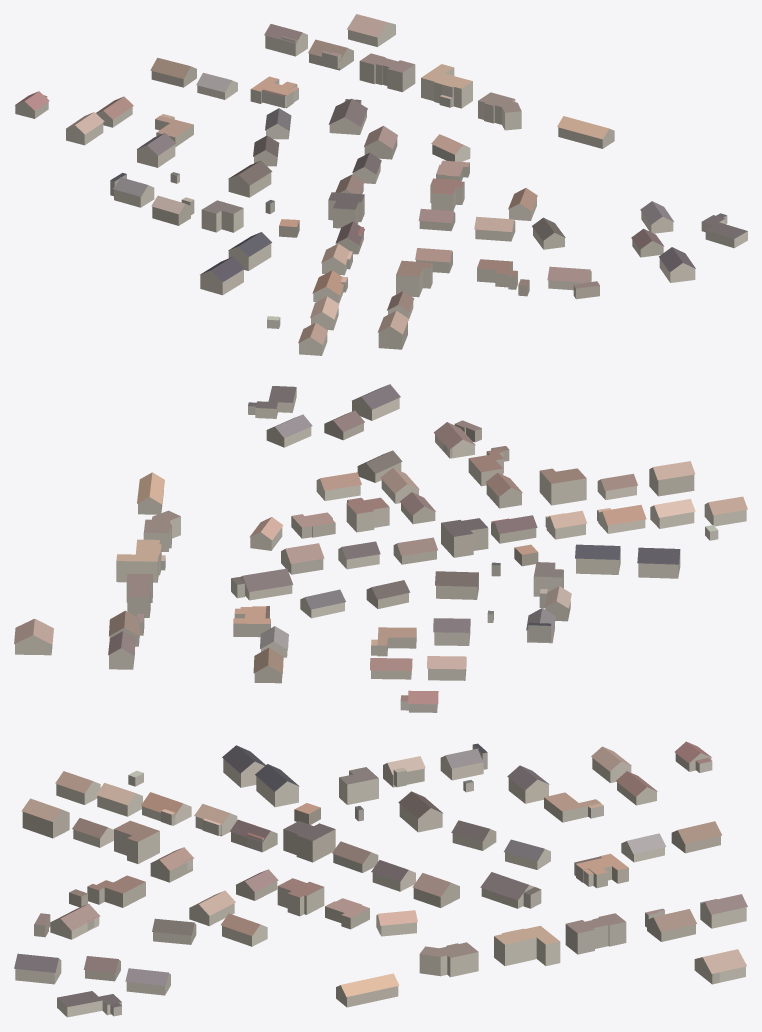
The picture shows the model from 3 angles, top to bottom: view 1: azimuth 30°, elevation 25°; view 2: azimuth 150°, elevation 25°; view 3: azimuth 270°, elevation 25°; orthographic projection. The views are drawn at different scales.
Visible parts, largest first — view 1: tuile; view 2: tuile; view 3: tuile.
Boxes of the visible parts, left/top/right/bottom form: tuile: left=15, top=14, right=747, bottom=355; tuile: left=14, top=384, right=747, bottom=712; tuile: left=14, top=741, right=747, bottom=1017.
Bounding box in the file's own units: 202 × 19.36 × 253.
